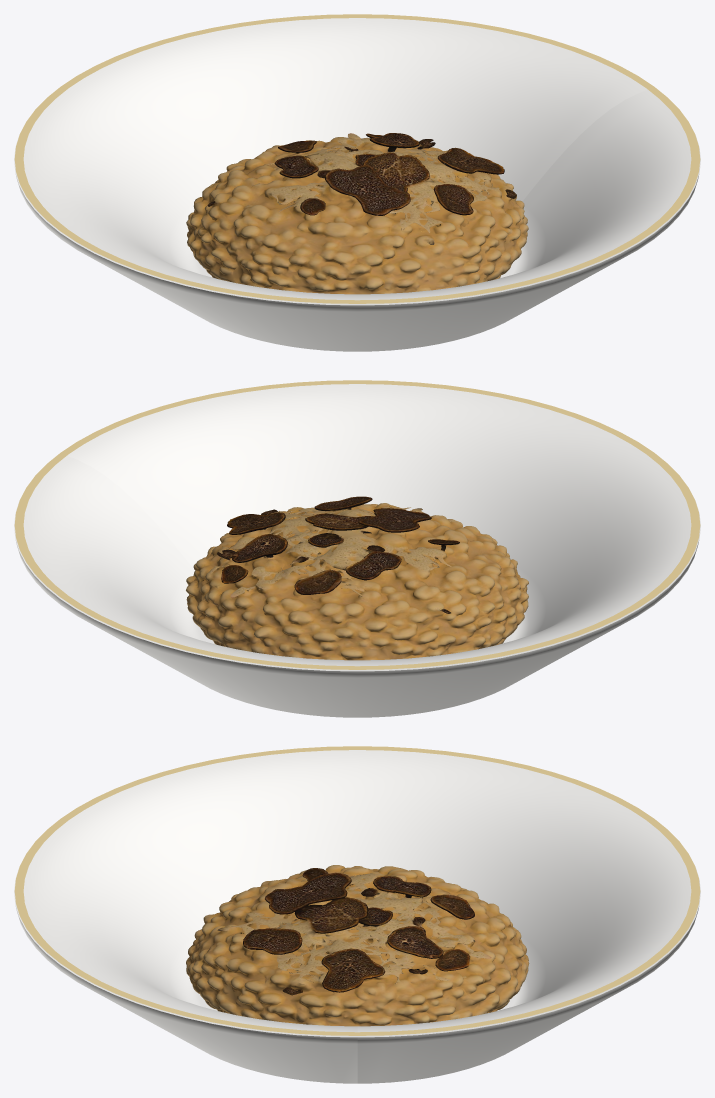
File: risoto-trufa.glb
The picture shows the model from 3 angles, top to bottom: view 1: azimuth 30°, elevation 25°; view 2: azimuth 150°, elevation 25°; view 3: azimuth 270°, elevation 25°; orthographic projection.
Visible parts, largest first — view 1: dish, tripo_node_e21b7d01-95ec-4730-816f-9a9247a85b2f; view 2: dish, tripo_node_e21b7d01-95ec-4730-816f-9a9247a85b2f; view 3: dish, tripo_node_e21b7d01-95ec-4730-816f-9a9247a85b2f.
Boxes of the visible parts, box(x1,y1,x2,y2) form: dish: box(14, 14, 700, 351); tripo_node_e21b7d01-95ec-4730-816f-9a9247a85b2f: box(186, 133, 528, 294); dish: box(14, 380, 700, 717); tripo_node_e21b7d01-95ec-4730-816f-9a9247a85b2f: box(186, 496, 528, 660); dish: box(14, 746, 700, 1083); tripo_node_e21b7d01-95ec-4730-816f-9a9247a85b2f: box(186, 865, 529, 1026).
Bounding box in the file's own units: 0.26 × 0.0505 × 0.26.
4 materials, 1 textured.
